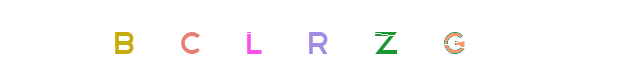B: (83, 0, 163, 80)
C: (211, 0, 291, 80)
G: (358, 0, 438, 80)
L: (266, 0, 346, 80)
R: (270, 0, 350, 80)
Z: (293, 0, 373, 80)
